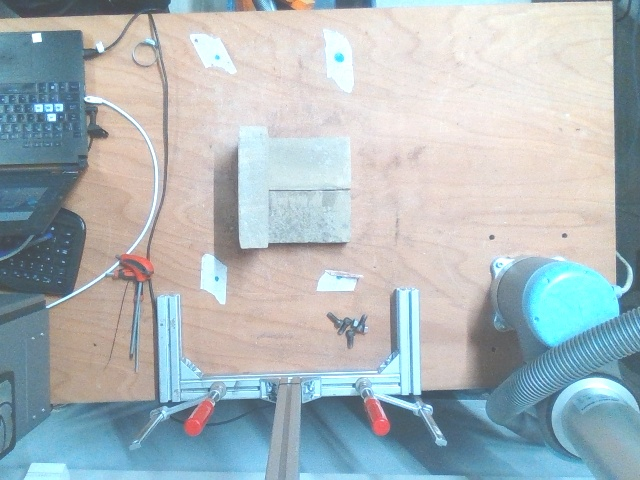brick-side: (237, 125, 267, 246)
